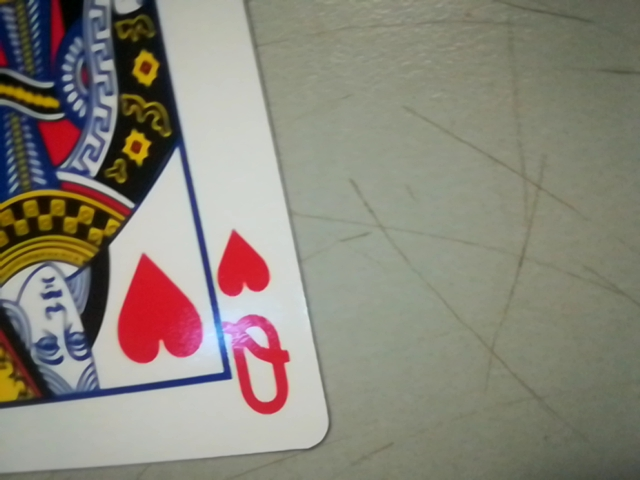hx q: (206, 216, 302, 432)
